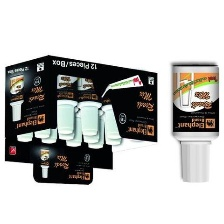book: (3, 53, 160, 186)
correction_fluid: (170, 60, 220, 184), (45, 62, 80, 135), (72, 65, 105, 139), (100, 70, 132, 140)
